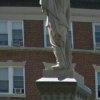Statue: (32, 1, 77, 83)
